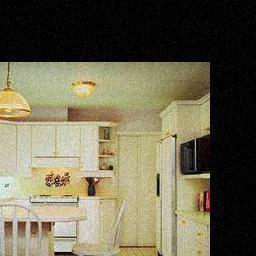Electrodomestico: (157, 140, 175, 256)
